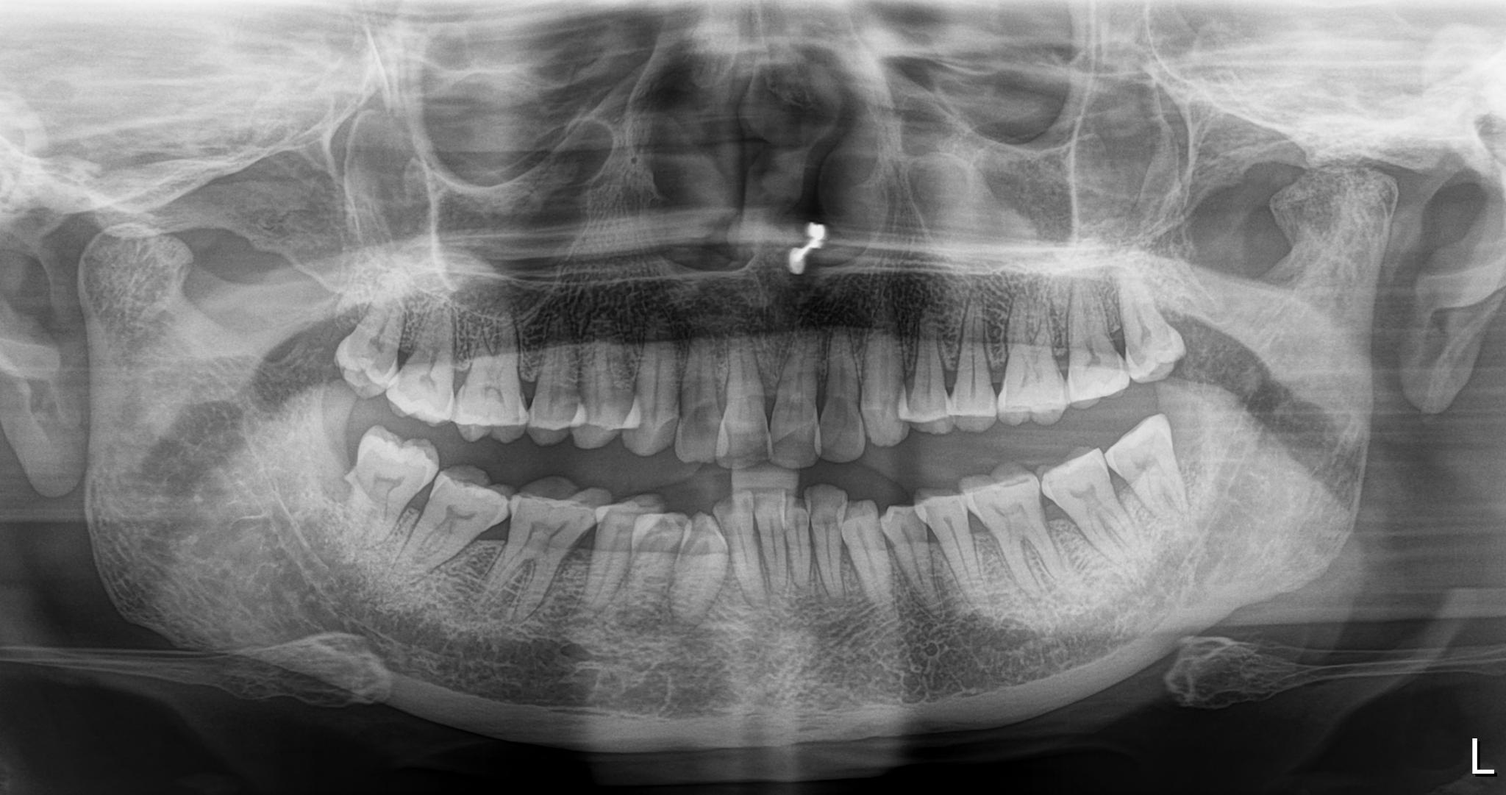Attrition: (443, 467, 638, 524)
